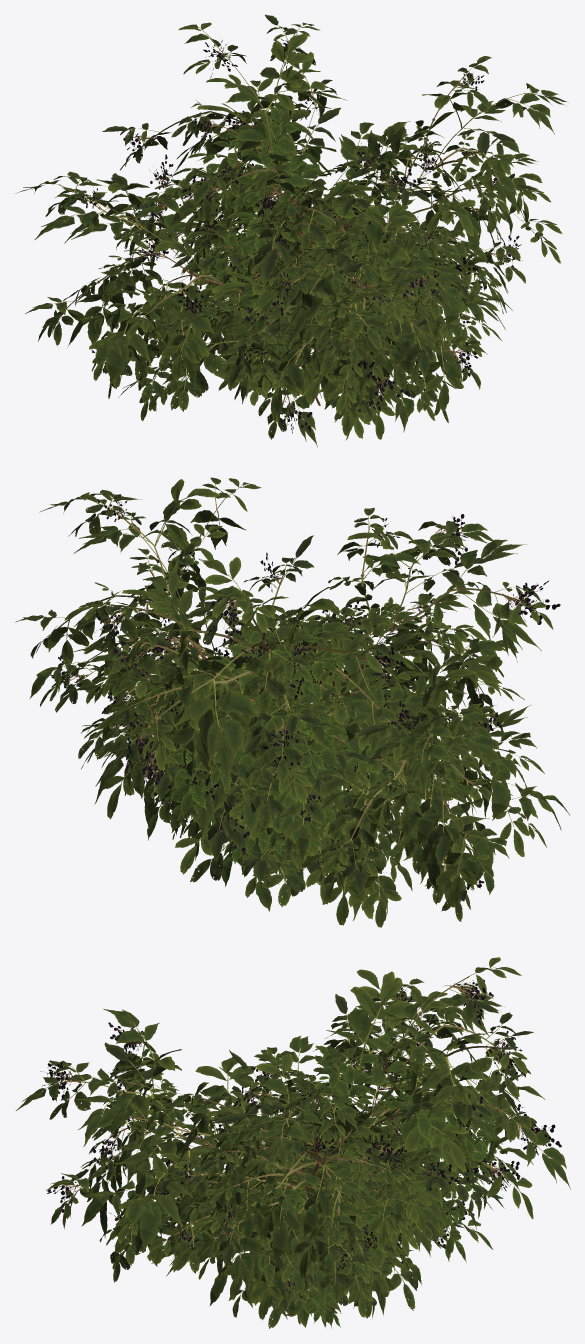
3 views of the same model, one above another, from view 1: azimuth 30°, elevation 25°; view 2: azimuth 150°, elevation 25°; view 3: azimuth 270°, elevation 25° (orthographic). The views are drawn at different scales.
Visible parts, largest first — view 1: SM_wfzobb2ia_VarB, SM_wfzobb2ia_VarA, SM_wfzobb2ia_VarC, SM_wfzobb2ia_VarD, SM_wfzobb2ia_VarF; view 2: SM_wfzobb2ia_VarB, SM_wfzobb2ia_VarA, SM_wfzobb2ia_VarC, SM_wfzobb2ia_VarD, SM_wfzobb2ia_VarF, SM_wfzobb2ia_VarE; view 3: SM_wfzobb2ia_VarB, SM_wfzobb2ia_VarA, SM_wfzobb2ia_VarD, SM_wfzobb2ia_VarC, SM_wfzobb2ia_VarE, SM_wfzobb2ia_VarF.
Boxes of the visible parts, bbox=[...] form: SM_wfzobb2ia_VarB: bbox=[15, 14, 566, 447]; SM_wfzobb2ia_VarA: bbox=[156, 96, 442, 395]; SM_wfzobb2ia_VarC: bbox=[169, 173, 452, 370]; SM_wfzobb2ia_VarD: bbox=[248, 164, 452, 358]; SM_wfzobb2ia_VarF: bbox=[209, 191, 401, 359]; SM_wfzobb2ia_VarB: bbox=[15, 477, 569, 927]; SM_wfzobb2ia_VarA: bbox=[124, 614, 398, 863]; SM_wfzobb2ia_VarC: bbox=[125, 621, 409, 907]; SM_wfzobb2ia_VarD: bbox=[101, 613, 360, 911]; SM_wfzobb2ia_VarF: bbox=[144, 663, 400, 861]; SM_wfzobb2ia_VarE: bbox=[163, 674, 337, 839]; SM_wfzobb2ia_VarB: bbox=[16, 957, 570, 1328]; SM_wfzobb2ia_VarA: bbox=[226, 1013, 516, 1328]; SM_wfzobb2ia_VarD: bbox=[198, 1098, 434, 1319]; SM_wfzobb2ia_VarC: bbox=[181, 1091, 488, 1314]; SM_wfzobb2ia_VarE: bbox=[189, 1136, 480, 1261]; SM_wfzobb2ia_VarF: bbox=[239, 1091, 419, 1297].
Size of what is drawn, in the model's own units: 2.31 by 1.49 by 2.25.
1 material, 1 textured.
